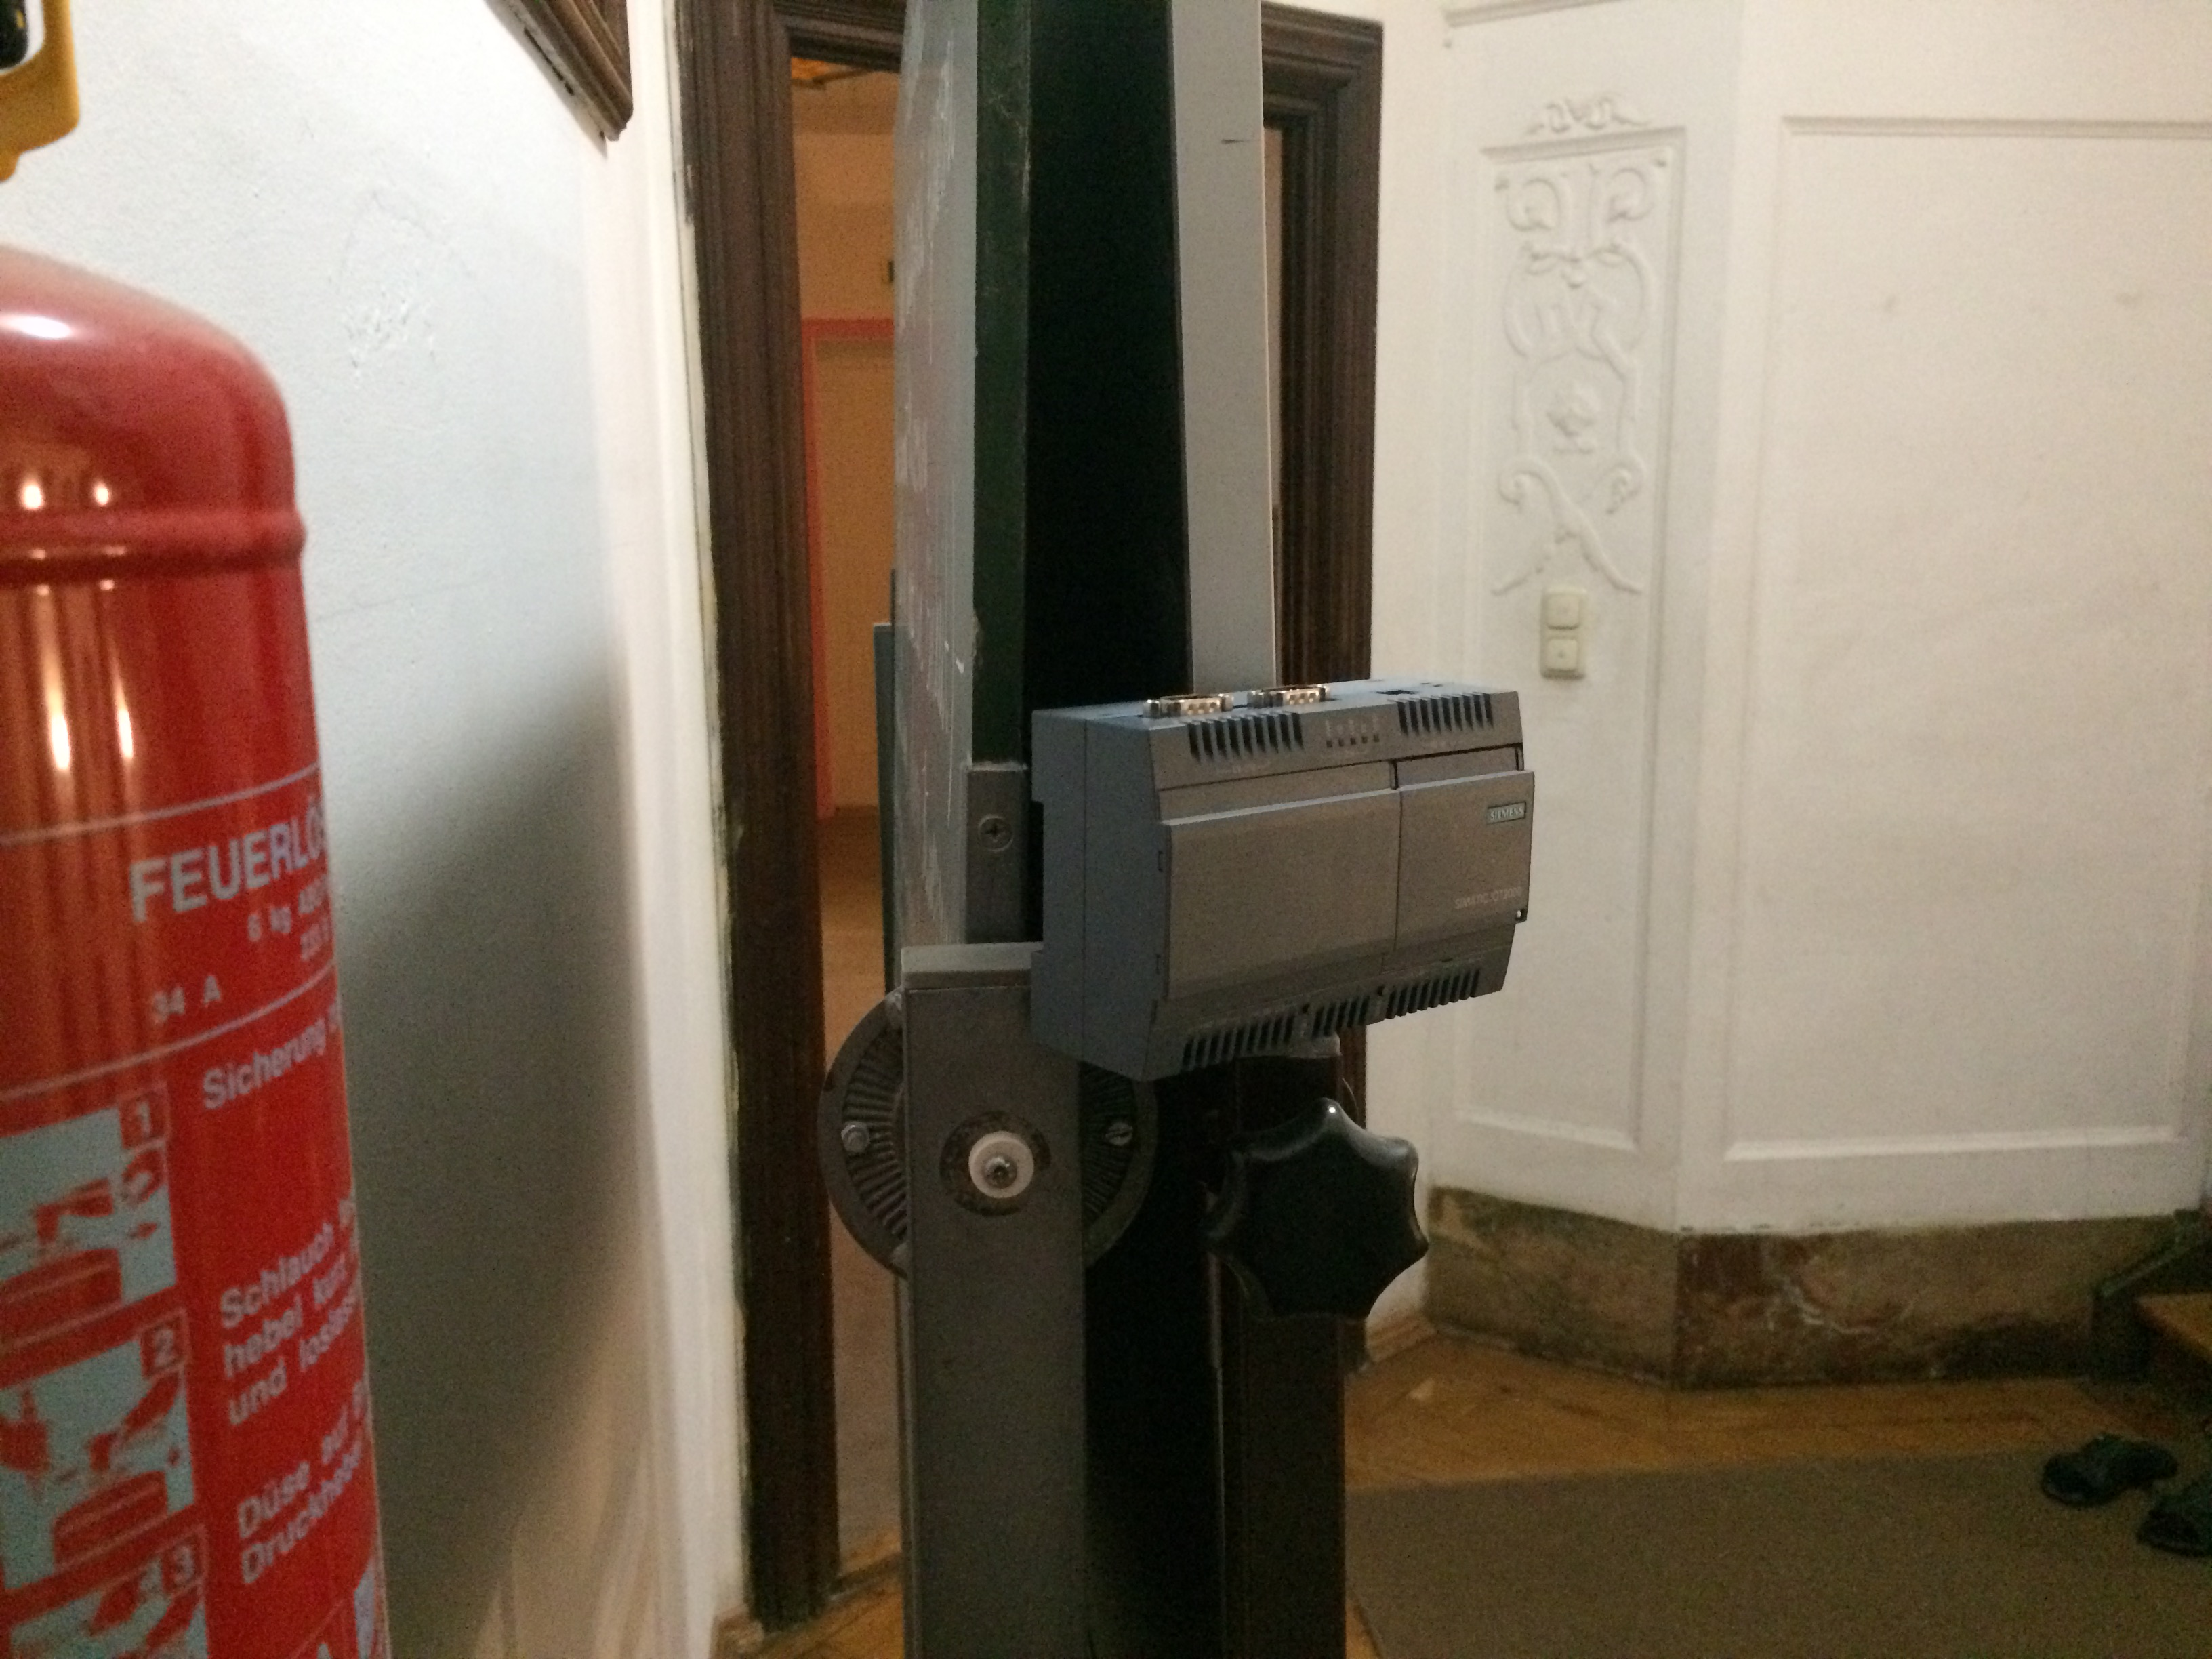iot2000: (1022, 671, 1540, 1093)
